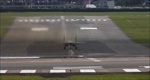maybay_muctieu: (56, 37, 84, 51)
